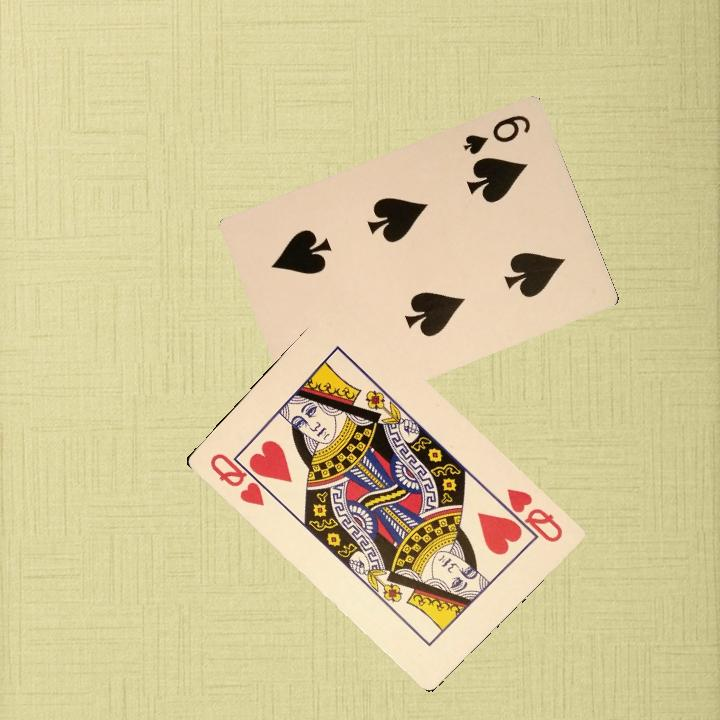6s: (459, 111, 533, 157)
Qh: (491, 484, 566, 546), (205, 449, 275, 509)
